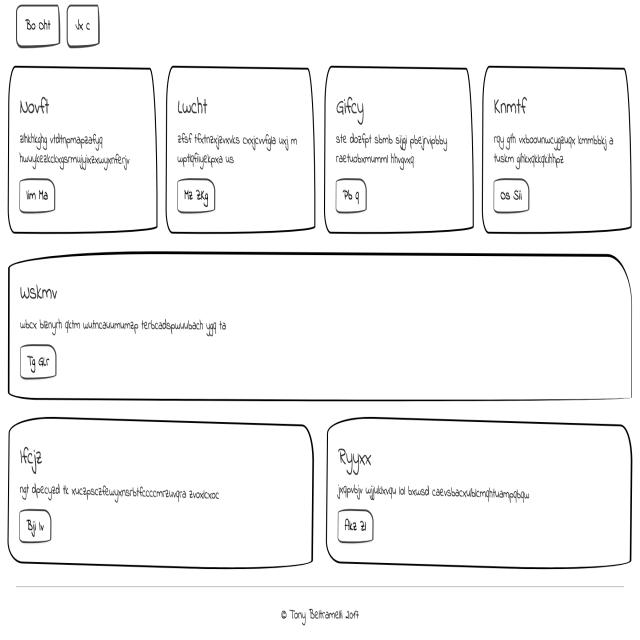Button: (177, 173, 222, 218), (17, 181, 62, 223), (491, 175, 540, 213), (23, 340, 61, 387), (20, 507, 55, 553), (337, 510, 375, 544), (336, 177, 365, 210)
Card: (9, 260, 640, 408), (8, 422, 318, 569), (329, 422, 636, 569), (170, 59, 318, 239), (484, 62, 630, 238), (330, 68, 470, 235), (9, 75, 157, 232)
Footer: (1, 583, 640, 640)
Heading 6: (175, 75, 224, 125), (494, 82, 543, 118), (333, 435, 378, 471), (12, 433, 48, 472), (14, 280, 64, 304), (14, 95, 59, 121), (336, 92, 369, 122)
Navigation Bar: (5, 4, 101, 48)
Paragraph: (334, 475, 541, 511), (13, 310, 245, 338), (13, 475, 225, 502), (176, 129, 311, 168), (492, 130, 616, 170), (333, 133, 459, 167), (17, 133, 140, 167)
